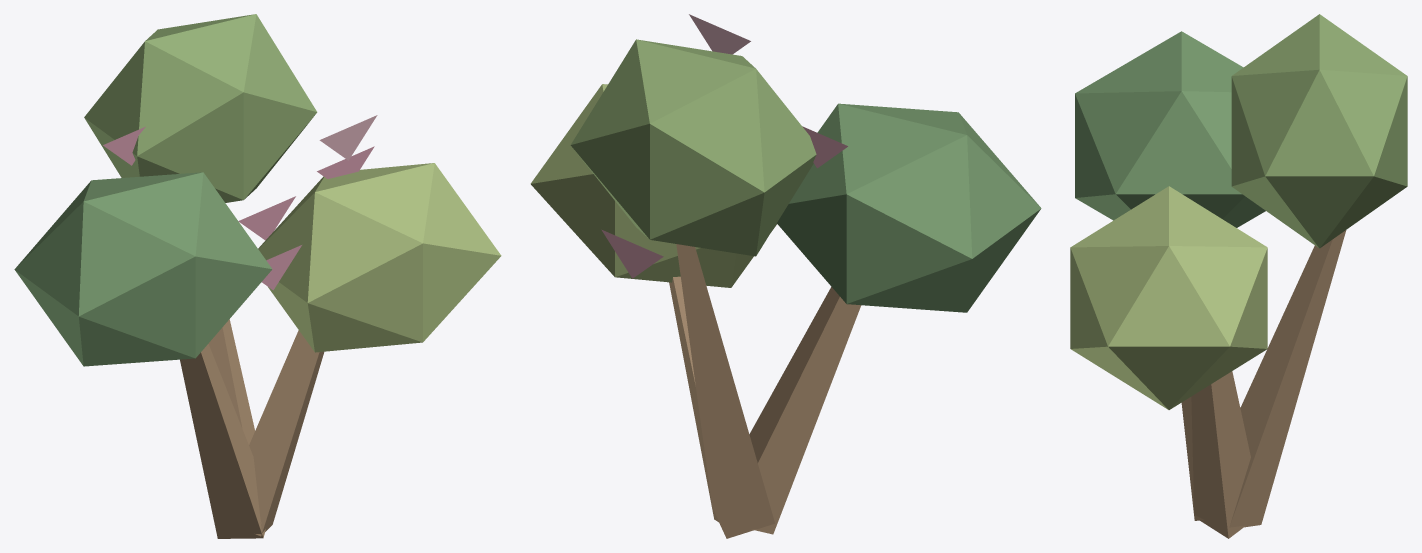
The picture shows the model from 3 angles, left to right: view 1: azimuth 30°, elevation 25°; view 2: azimuth 150°, elevation 25°; view 3: azimuth 270°, elevation 25°; orthographic projection. The views are drawn at different scales.
Parts seen in each view (by area): view 1: Body; view 2: Body; view 3: Body.
Boxes of the visible parts, x1,y1,x2,y2 form: Body: (14, 14, 501, 538); Body: (530, 14, 1041, 538); Body: (1070, 14, 1407, 538).
Size of the model in its own units: 1.58 by 1.7 by 1.08.
